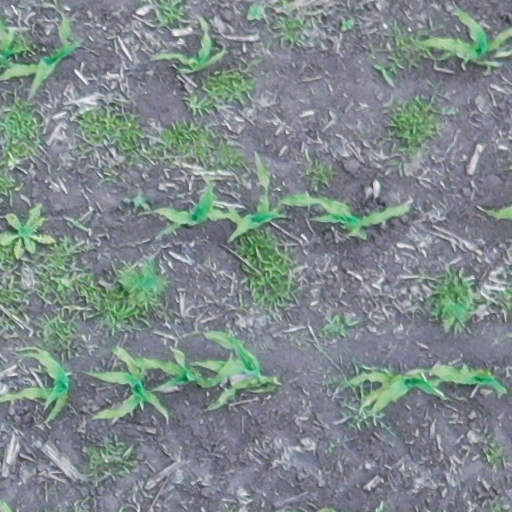planta: (156, 327, 270, 393), (281, 189, 412, 241), (340, 361, 447, 421), (90, 342, 170, 422), (225, 148, 283, 240), (153, 171, 232, 228), (152, 14, 228, 72), (426, 361, 508, 396), (226, 215, 233, 222)
